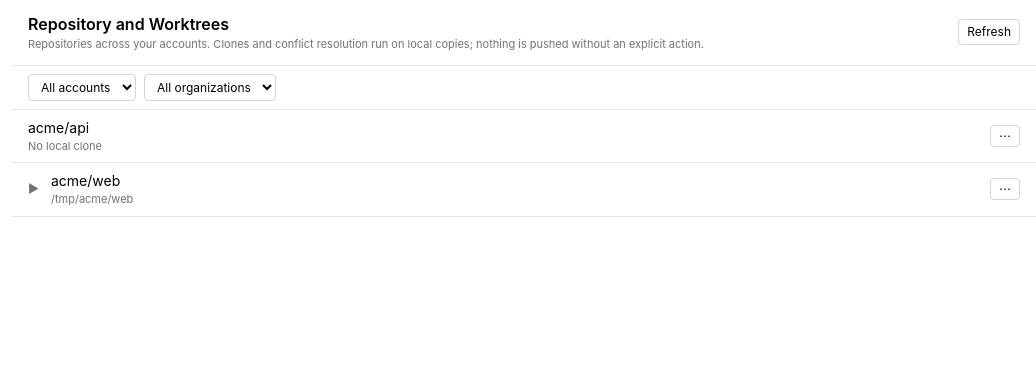
Scenario: Repos › shows a Force delete button when worktree delete fails with dirty error
Click the button named "Worktrees for acme/web". click: coordinates (34, 189)
box: [28,181,39,197]
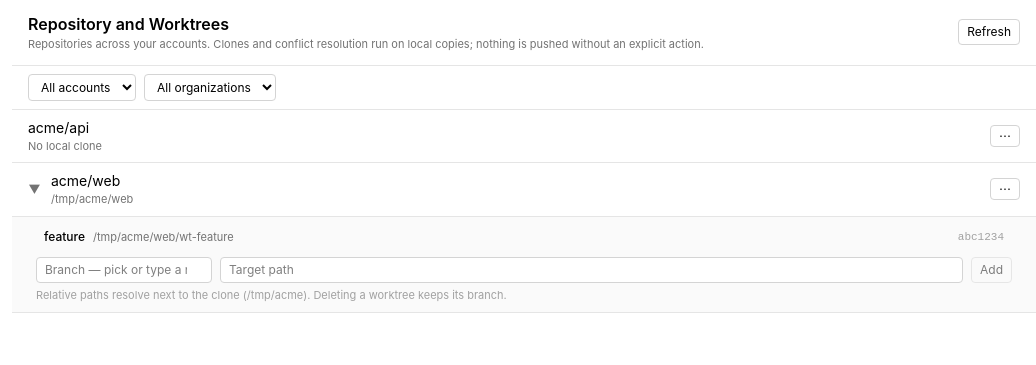
expect the text "feature" is shown: met, box [44,229,85,245]
Right-click the text "/tmp/acme/web/wt-feature" at coordinates (163, 236), box [93,230,234,244]
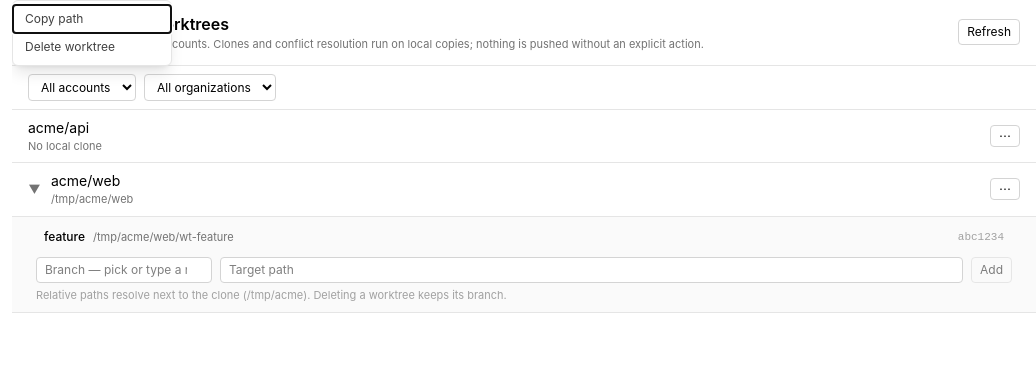
Click the menu item "Delete worktree". click: coordinates (92, 47)
box: [13,33,171,61]
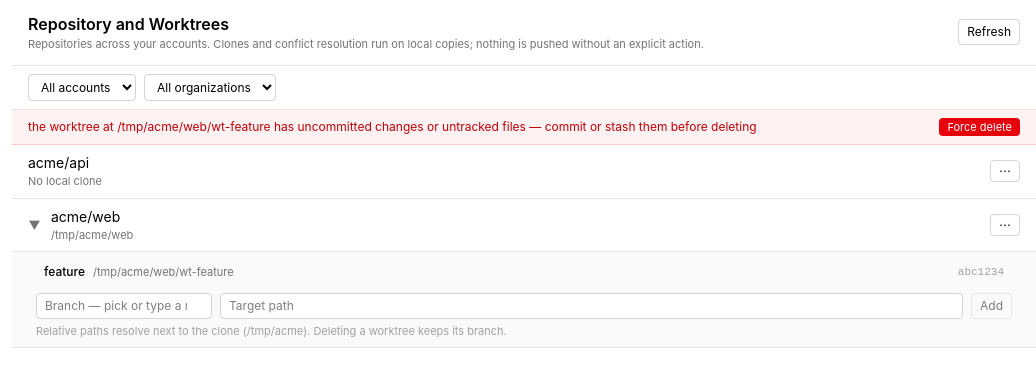
expect the message is shown: met, box [12,110,1035,145]
expect the text "uncommitted changes" is shown: met, box [28,119,757,134]
expect the button "Force delete" is shown: met, box [940,118,1020,136]
